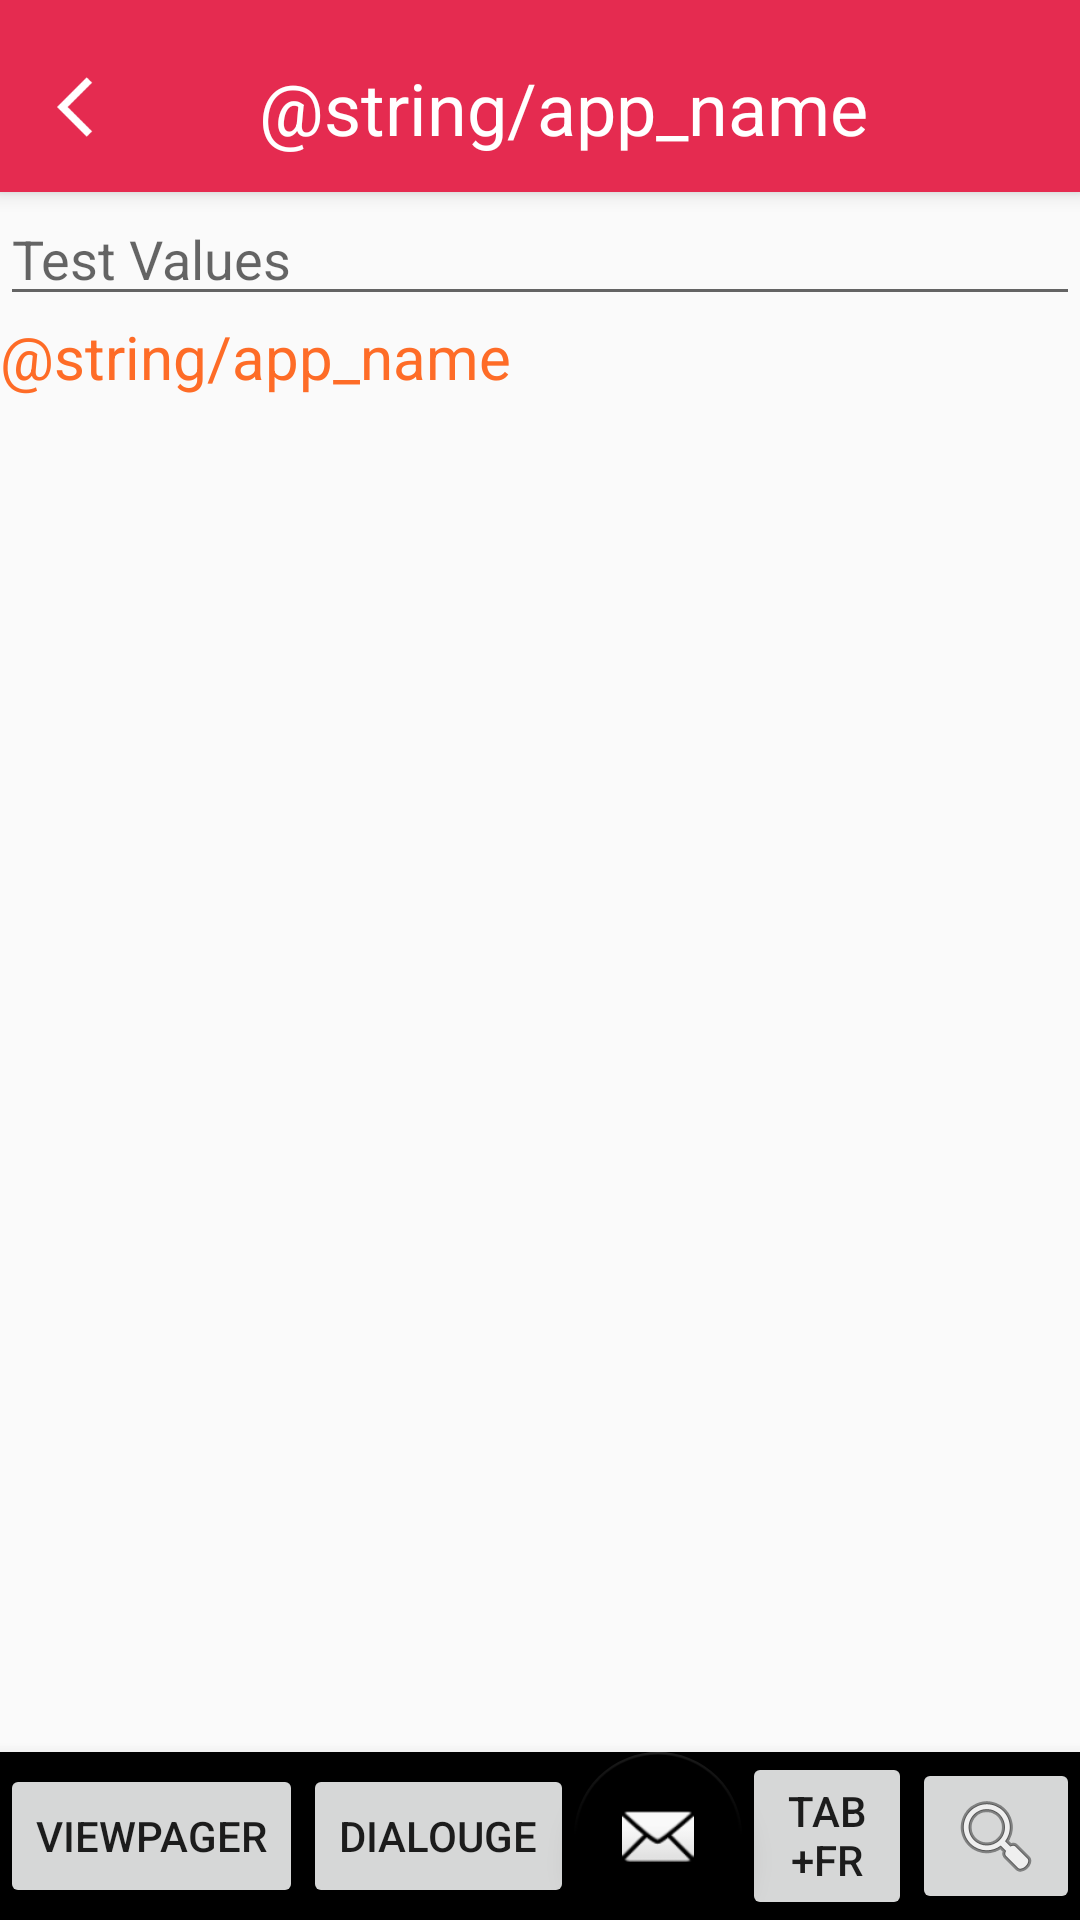

Icons on this 1080*1920 Android screen, each with its box as region(x1, y1, x2, y2):
back: region(57, 77, 92, 137)
email: region(622, 1757, 694, 1862)
search: region(924, 1776, 1068, 1896)
